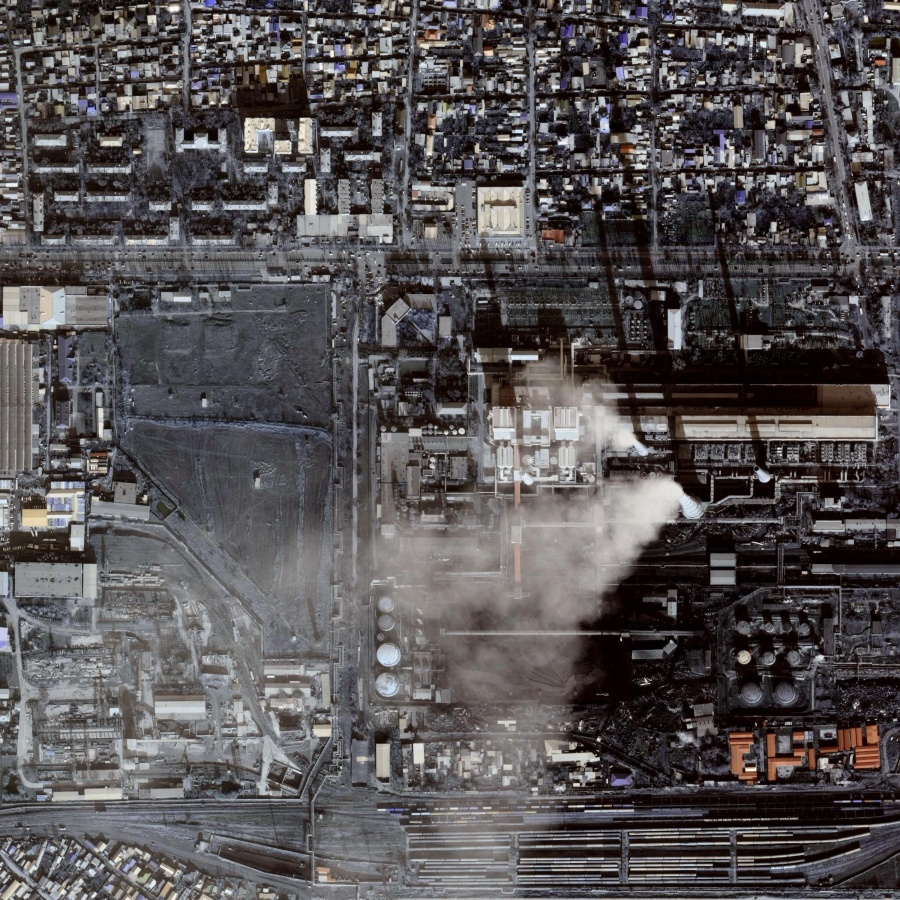PowerPlant: (380, 405, 884, 719)
